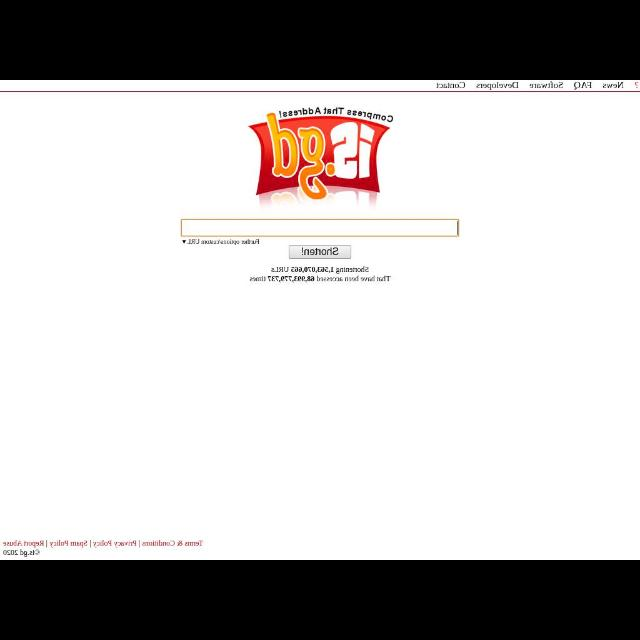icon: (636, 82, 638, 88), (182, 240, 185, 243)
image: (248, 107, 394, 209)
input: (182, 220, 458, 236)
text: (250, 276, 390, 282), (272, 266, 368, 274), (188, 239, 258, 245), (143, 540, 203, 546), (94, 540, 136, 548), (476, 82, 518, 90), (3, 540, 43, 548), (49, 540, 86, 548), (302, 247, 338, 255), (4, 550, 40, 556), (530, 82, 562, 88), (436, 82, 466, 88), (574, 82, 592, 90), (602, 82, 624, 88)
textbutton: (290, 246, 350, 258)
